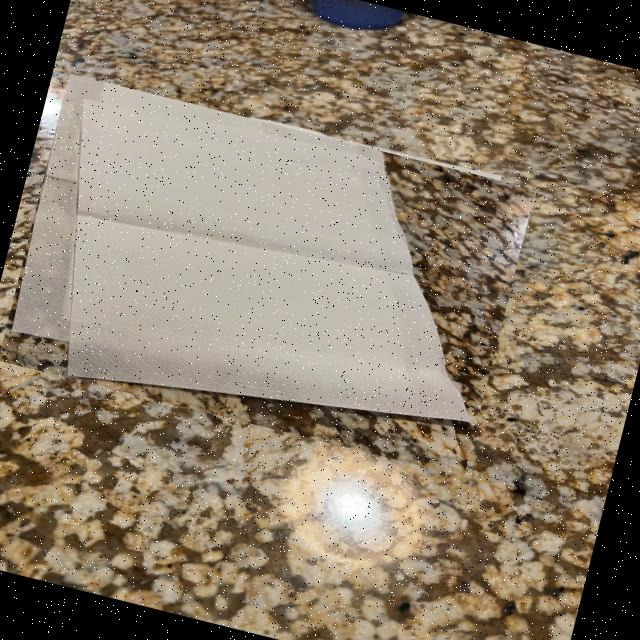Tissues: (11, 74, 476, 425)
